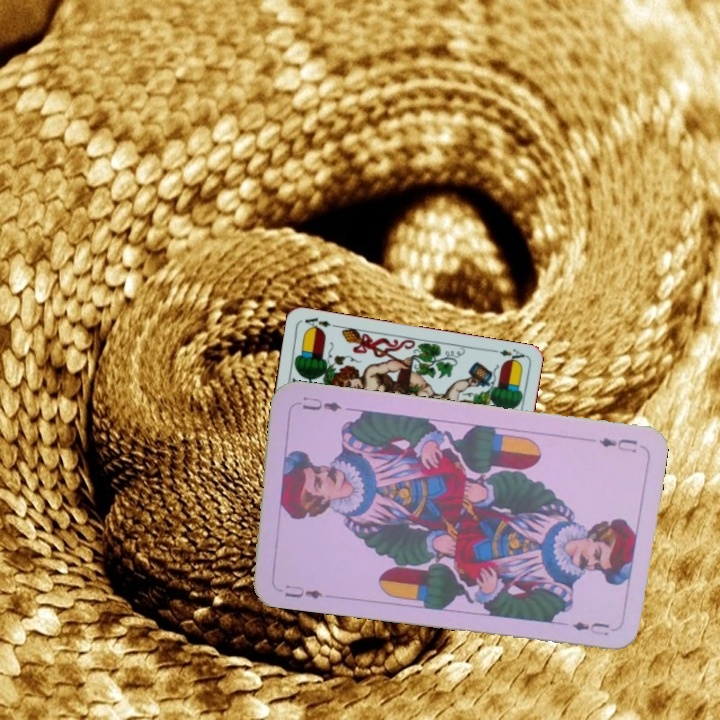EA: (496, 345, 527, 366)
EU: (595, 433, 640, 456), (281, 580, 326, 601)
